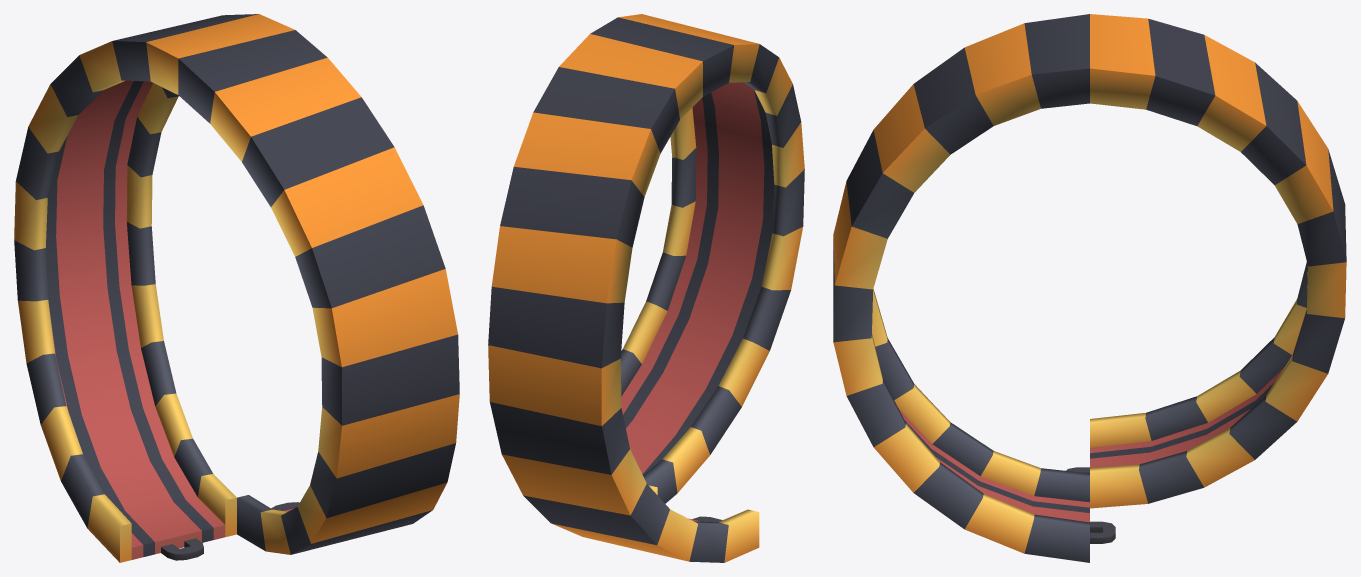
File: track-road-narrow-looping.fbx
3 renders of one model, left to right at view 1: azimuth 30°, elevation 25°; view 2: azimuth 150°, elevation 25°; view 3: azimuth 270°, elevation 25°, orthographic. The views are drawn at different scales.
Visible parts, largest first — view 1: track-road-narrow-looping; view 2: track-road-narrow-looping; view 3: track-road-narrow-looping.
Boxes of the visible parts, box(x1,y1,x2,y2) form: track-road-narrow-looping: box(14, 14, 459, 562); track-road-narrow-looping: box(488, 14, 804, 562); track-road-narrow-looping: box(833, 14, 1346, 562).
Bounding box in the file's own units: 200 × 400 × 398.
